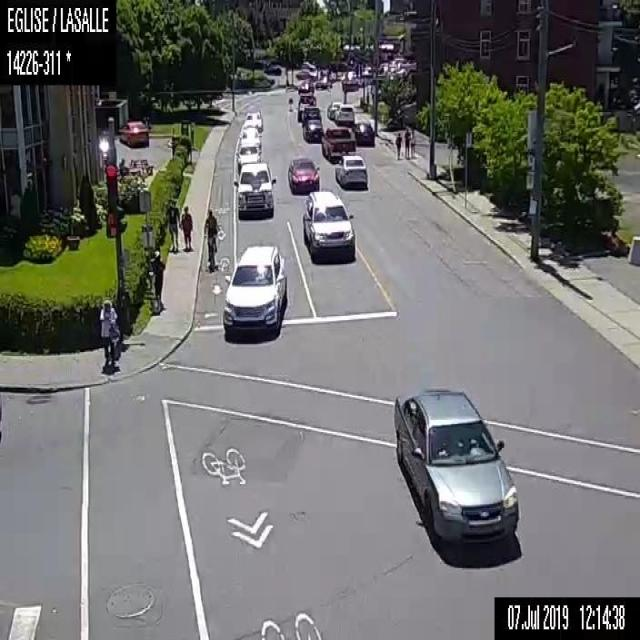cyclist: (203, 207, 218, 270)
pedestrian: (98, 296, 120, 368), (150, 245, 165, 312), (177, 203, 195, 255), (164, 199, 178, 252), (394, 129, 402, 160), (409, 125, 416, 158), (404, 125, 409, 159)
vehicle: (391, 386, 518, 546), (221, 242, 285, 330), (302, 188, 356, 263), (231, 160, 276, 216), (321, 125, 357, 161), (334, 150, 367, 189), (288, 157, 320, 190), (116, 118, 150, 146), (234, 140, 259, 169), (300, 117, 324, 143), (296, 93, 316, 121), (354, 119, 374, 146), (239, 126, 261, 148), (334, 105, 356, 125), (244, 111, 263, 131), (302, 104, 322, 122), (326, 100, 342, 118), (295, 68, 315, 80), (315, 76, 331, 90), (297, 79, 312, 91)
